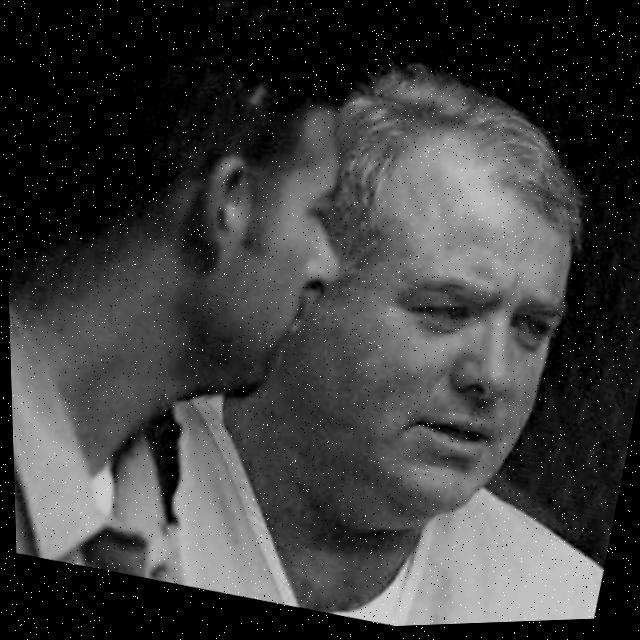face: (10, 23, 378, 446), (297, 113, 596, 543)
